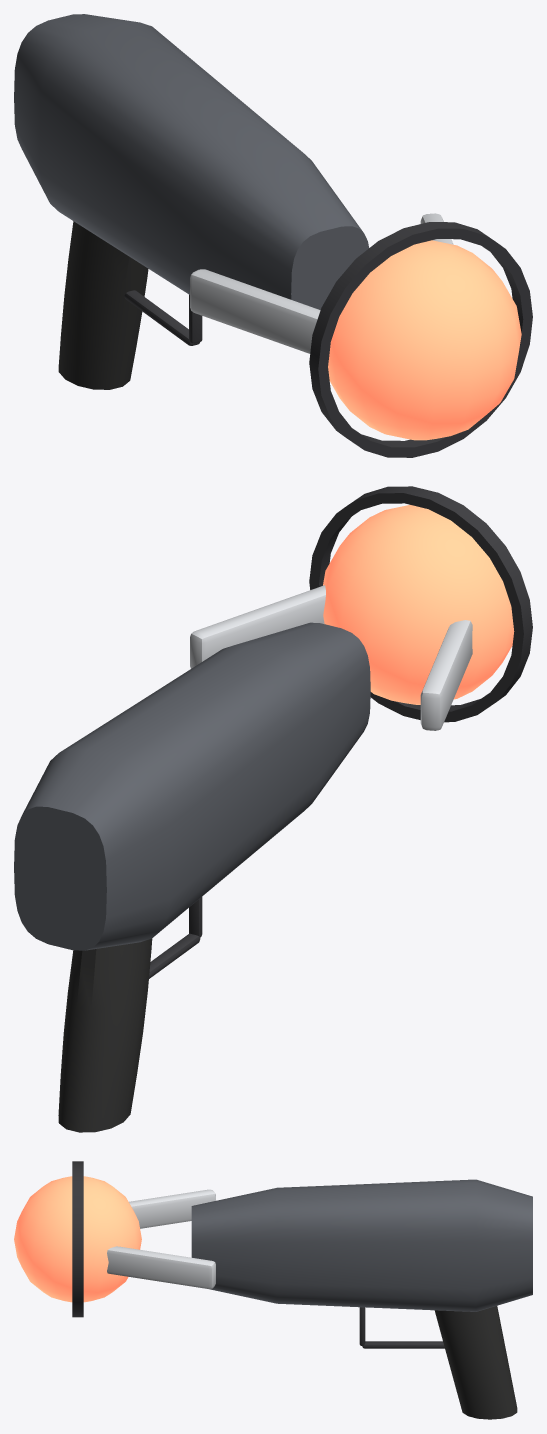
The model's file is psicluster.glb.
3 views of the same model, one above another, from view 1: azimuth 30°, elevation 25°; view 2: azimuth 150°, elevation 25°; view 3: azimuth 270°, elevation 25° (orthographic). The views are drawn at different scales.
Parts seen in each view (by area): view 1: Body; view 2: Body; view 3: Body.
Part boxes in pixels (<box>): Body: <box>14,14,532,457</box>; Body: <box>14,486,532,1132</box>; Body: <box>14,1161,532,1419</box>.
Bounding box in the file's own units: 0.1284 × 0.1875 × 0.365.
